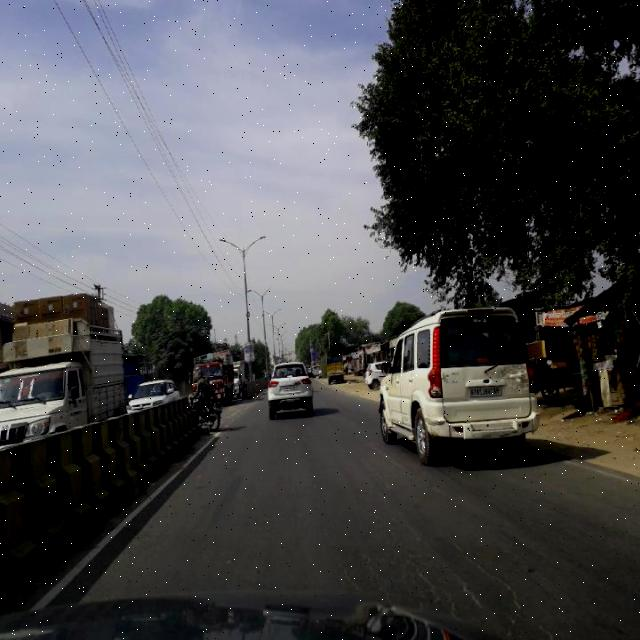D20: (386, 527, 536, 609)
